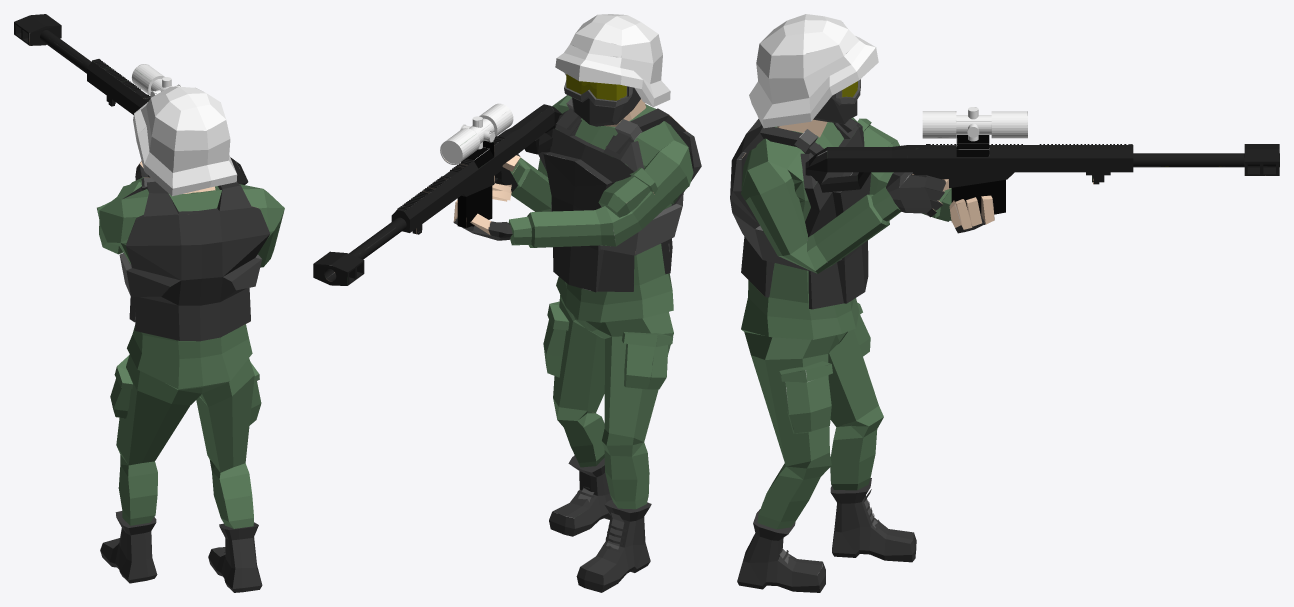
The model's file is Soldier_sniper.glb.
3 renders of one model, left to right at view 1: azimuth 30°, elevation 25°; view 2: azimuth 150°, elevation 25°; view 3: azimuth 270°, elevation 25°, orthographic. The views are drawn at different scales.
Visible parts, largest first — view 1: Soldat; view 2: Soldat; view 3: Soldat.
Part boxes in pixels (box(x1,y1,x2,y2)): Soldat: box(14, 14, 284, 592); Soldat: box(313, 14, 701, 592); Soldat: box(730, 14, 1279, 592).
Size of the model in its own units: 0.6754 by 2 by 1.81.
1 material, 1 textured.
